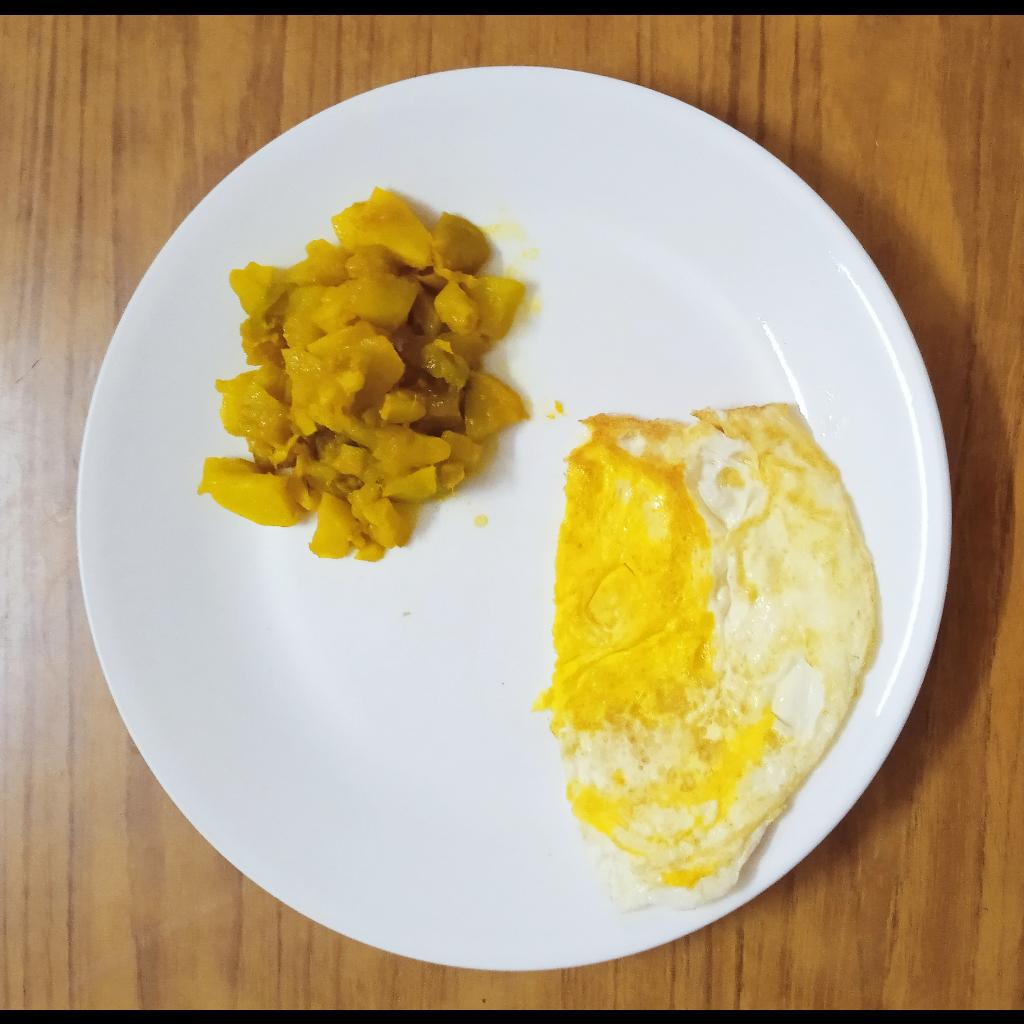egg-poached: (532, 403, 885, 912)
potol: (197, 189, 530, 565)
